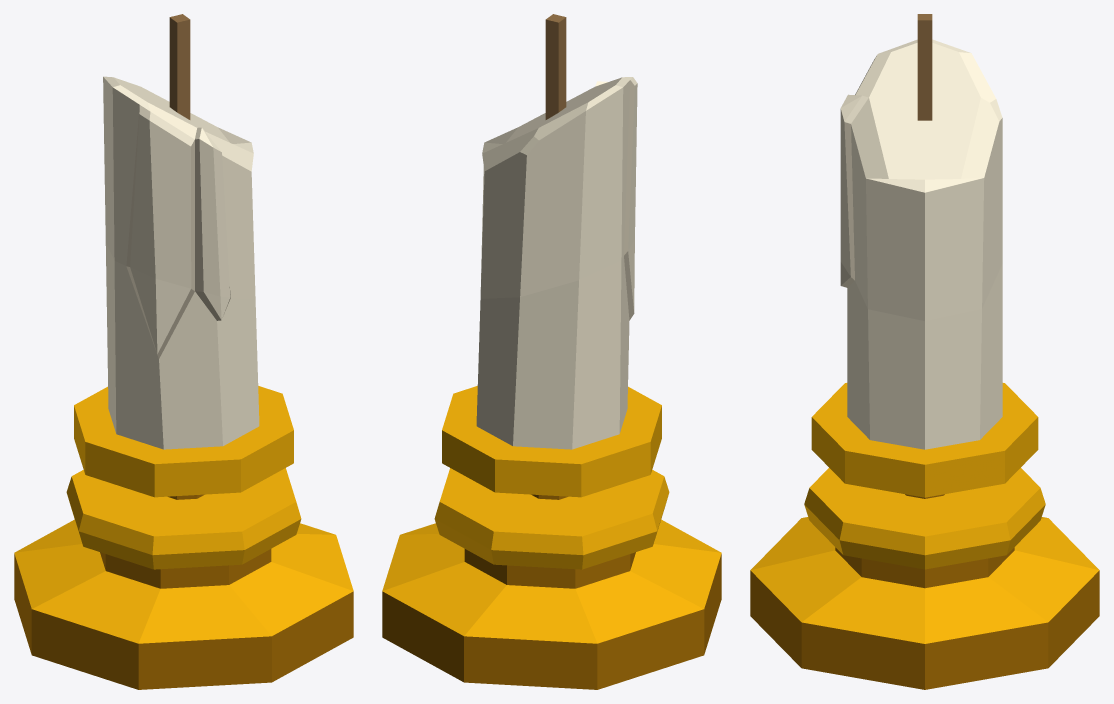
The model's file is Candle_03.glb.
3 renders of one model, left to right at view 1: azimuth 30°, elevation 25°; view 2: azimuth 150°, elevation 25°; view 3: azimuth 270°, elevation 25°, orthographic.
Visible parts, largest first — view 1: Candle_03; view 2: Candle_03; view 3: Candle_03.
Part boxes in pixels (x1,y1,x2,y2): Candle_03: [14, 14, 353, 689]; Candle_03: [382, 14, 721, 689]; Candle_03: [750, 14, 1099, 689].
Size of what is drawn, in the model's own units: 0.2767 by 0.5219 by 0.2767.
1 material, 1 textured.
